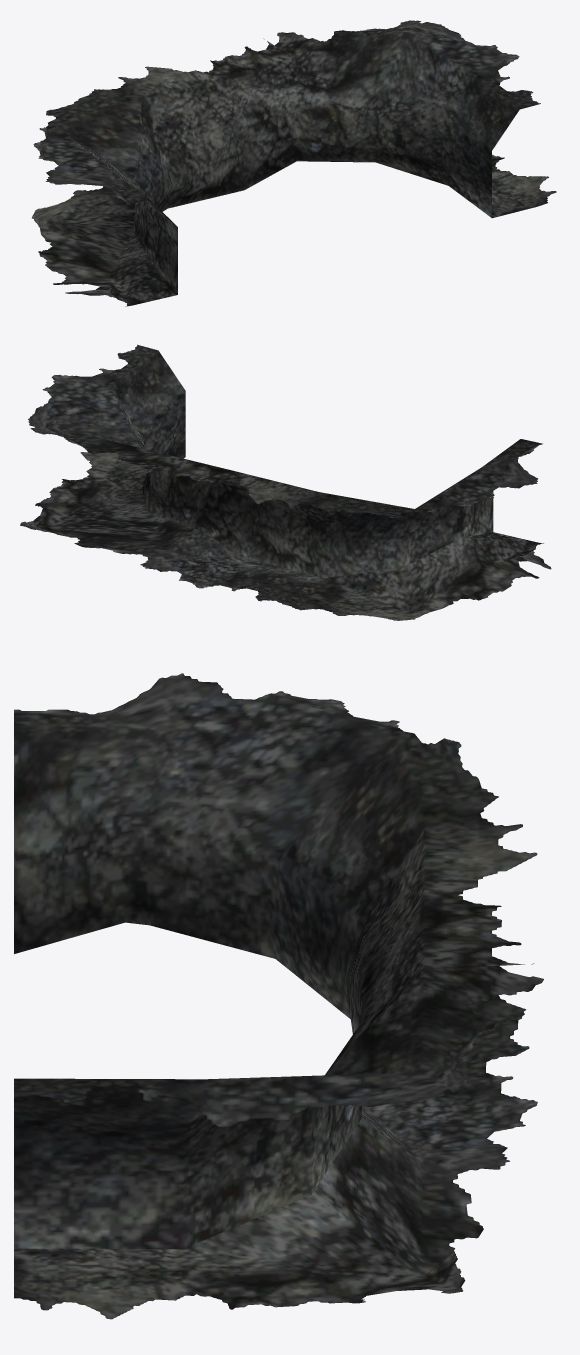
Rendered from rock_Uconcave.dae.
The picture shows the model from 3 angles, top to bottom: view 1: azimuth 30°, elevation 25°; view 2: azimuth 150°, elevation 25°; view 3: azimuth 270°, elevation 25°; orthographic projection. The views are drawn at different scales.
Parts seen in each view (by area): view 1: polySurface4; view 2: polySurface4; view 3: polySurface4.
Part boxes in pixels (x1=…): polySurface4: x1=32, y1=20, x2=556, y2=306; polySurface4: x1=20, y1=344, x2=551, y2=620; polySurface4: x1=14, y1=673, x2=543, y2=1319.
Bounding box in the file's own units: 2.86 × 0.5336 × 1.35.
